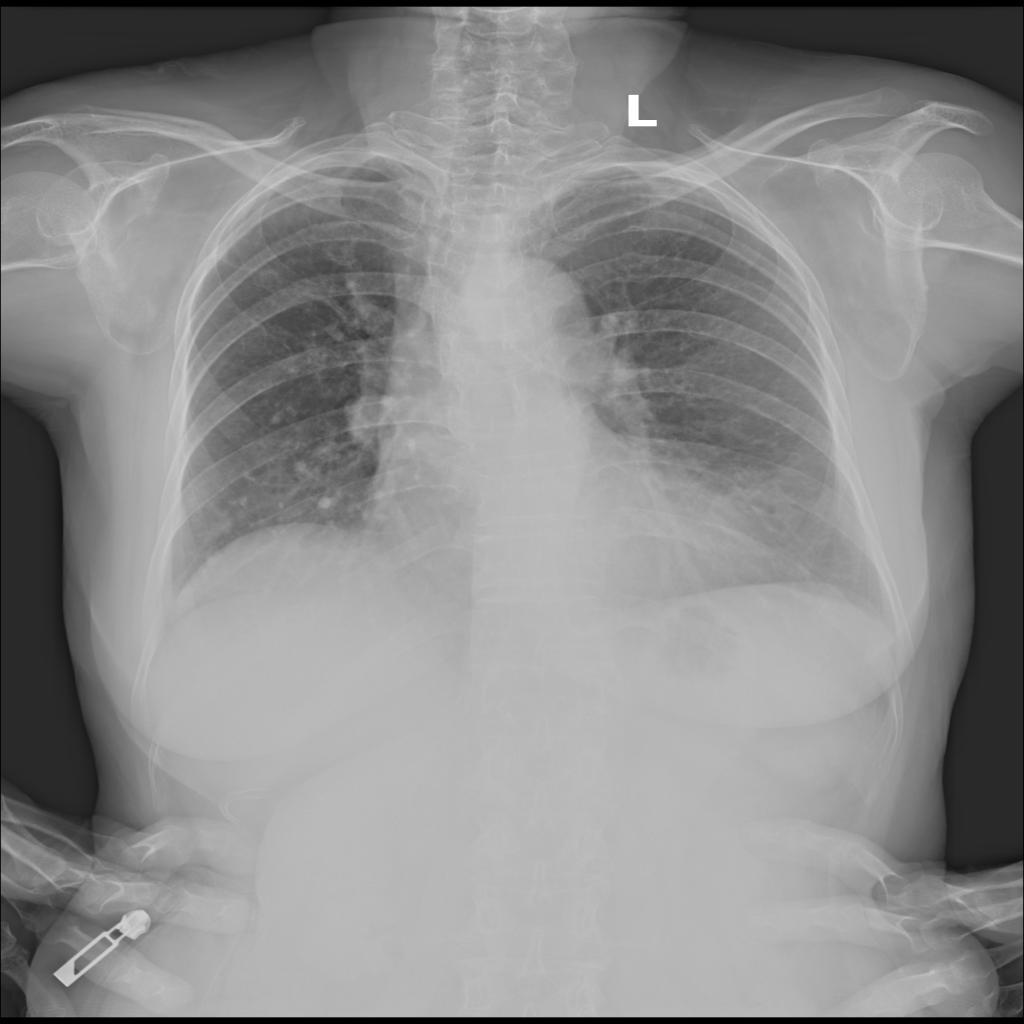Nodule: (272, 401, 286, 426), (234, 494, 252, 513), (317, 495, 333, 511), (291, 458, 308, 473)
